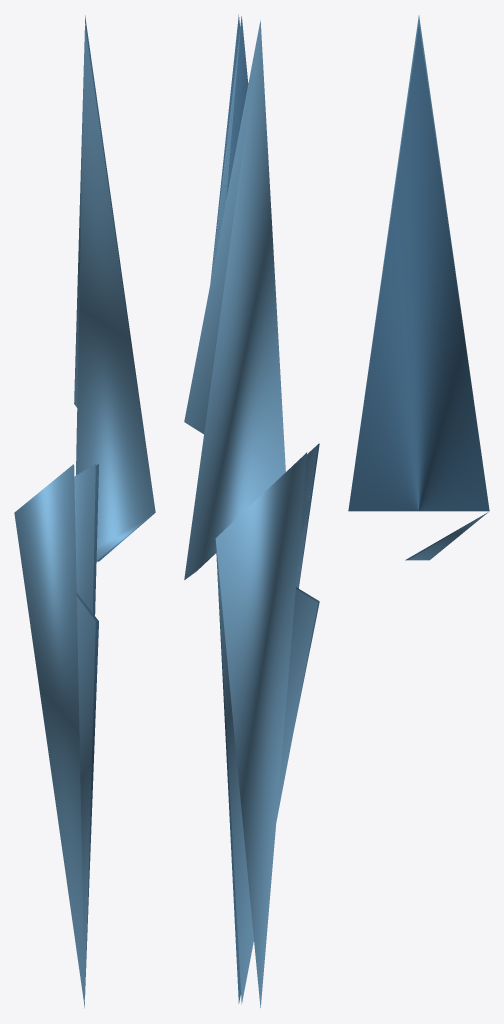
Rendered from equip_shield_rune_sq.glb.
3 renders of one model, left to right at view 1: azimuth 90°, elevation 25°; view 2: azimuth 150°, elevation 25°; view 3: azimuth 270°, elevation 25°, orthographic.
Parts seen in each view (by area): view 1: equip_shield_rune_sq; view 2: equip_shield_rune_sq; view 3: equip_shield_rune_sq.
Boxes of the visible parts, x1,y1,x2,y2 form: equip_shield_rune_sq: (14,15,155,1008); equip_shield_rune_sq: (184,14,319,1007); equip_shield_rune_sq: (348,15,489,560).
Size of the model in its own units: 0.26 by 2 by 0.26.
